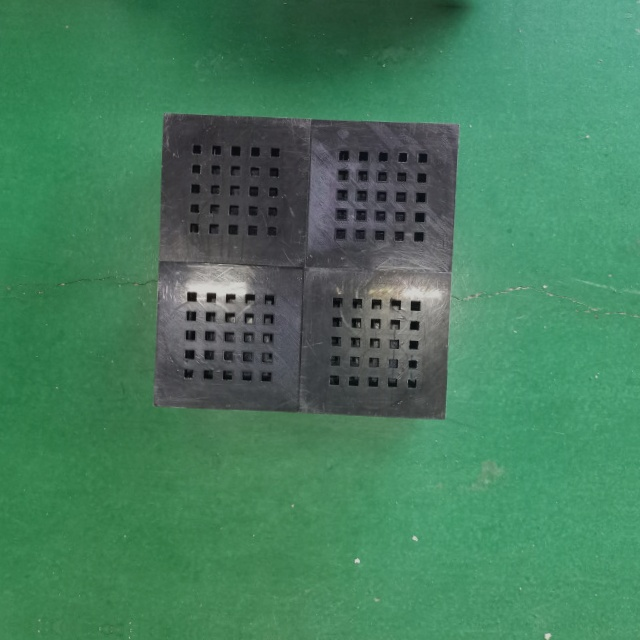pallet: (155, 112, 461, 424)
